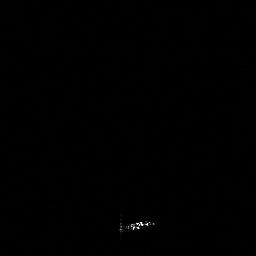ship: (116, 217, 158, 235)
